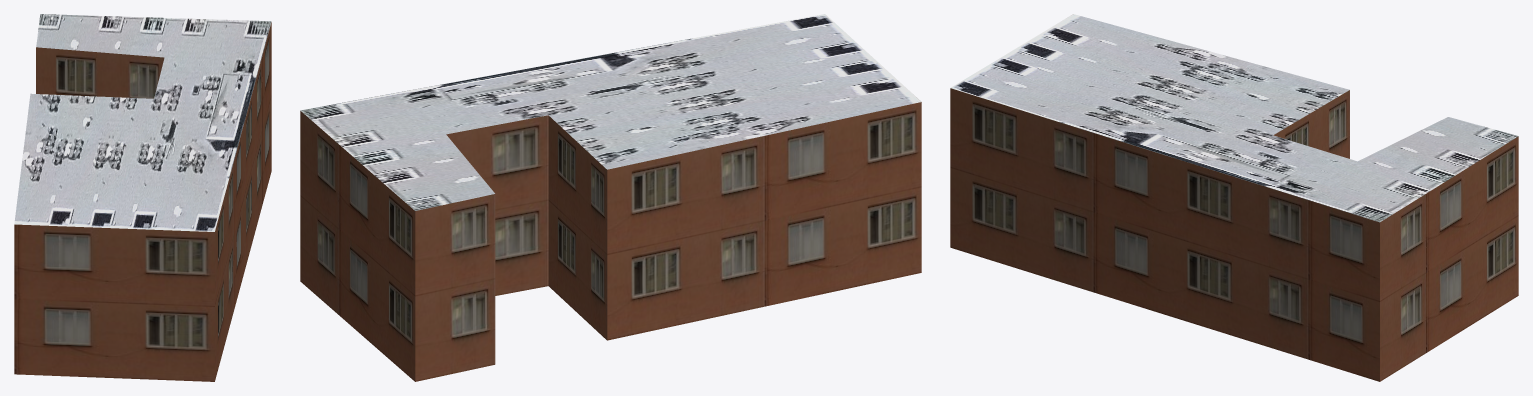
File: ResTex__3322.fbx
3 views of the same model, side by side, from view 1: azimuth 30°, elevation 25°; view 2: azimuth 150°, elevation 25°; view 3: azimuth 270°, elevation 25° (orthographic). The views are drawn at different scales.
Visible parts, largest first — view 1: CityEngineMaterial_20_m, CityEngineMaterial_8_m; view 2: CityEngineMaterial_20_m, CityEngineMaterial_8_m; view 3: CityEngineMaterial_20_m, CityEngineMaterial_8_m.
Boxes of the visible parts, x1,y1,x2,y2 form: CityEngineMaterial_20_m: (14,22,271,381); CityEngineMaterial_8_m: (14,14,271,231); CityEngineMaterial_20_m: (300,102,921,381); CityEngineMaterial_8_m: (300,14,921,210); CityEngineMaterial_20_m: (950,88,1518,381); CityEngineMaterial_8_m: (950,14,1518,222).
Bounding box in the file's own units: 16.81 × 6 × 19.38.
Materials: 2 (2 with a texture image).
